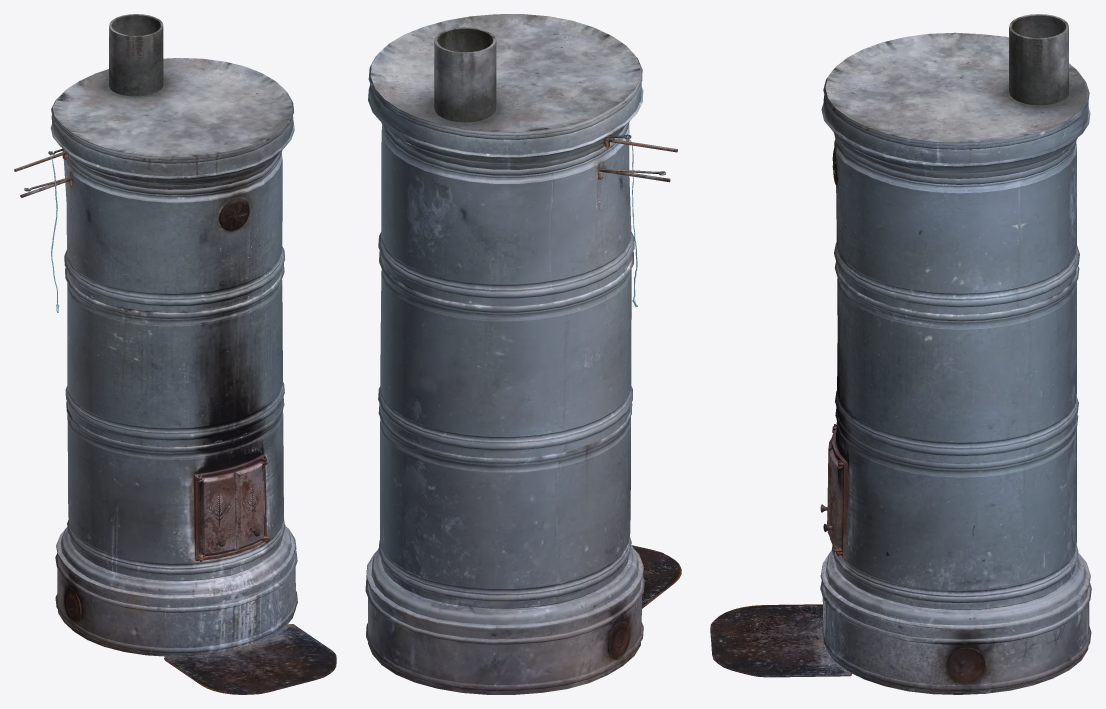
The model's file is scandinavian_masonry_heater.glb.
3 renders of one model, left to right at view 1: azimuth 30°, elevation 25°; view 2: azimuth 150°, elevation 25°; view 3: azimuth 270°, elevation 25°, orthographic. The views are drawn at different scales.
Parts seen in each view (by area): view 1: scandinavian_masonry_heater; view 2: scandinavian_masonry_heater; view 3: scandinavian_masonry_heater.
Part boxes in pixels (left/top/right/bottom): scandinavian_masonry_heater: left=14, top=14, right=336, bottom=694; scandinavian_masonry_heater: left=365, top=14, right=681, bottom=694; scandinavian_masonry_heater: left=710, top=14, right=1091, bottom=694.
Size of the model in its own units: 1.17 by 2.36 by 1.34.
1 material, 1 textured.
